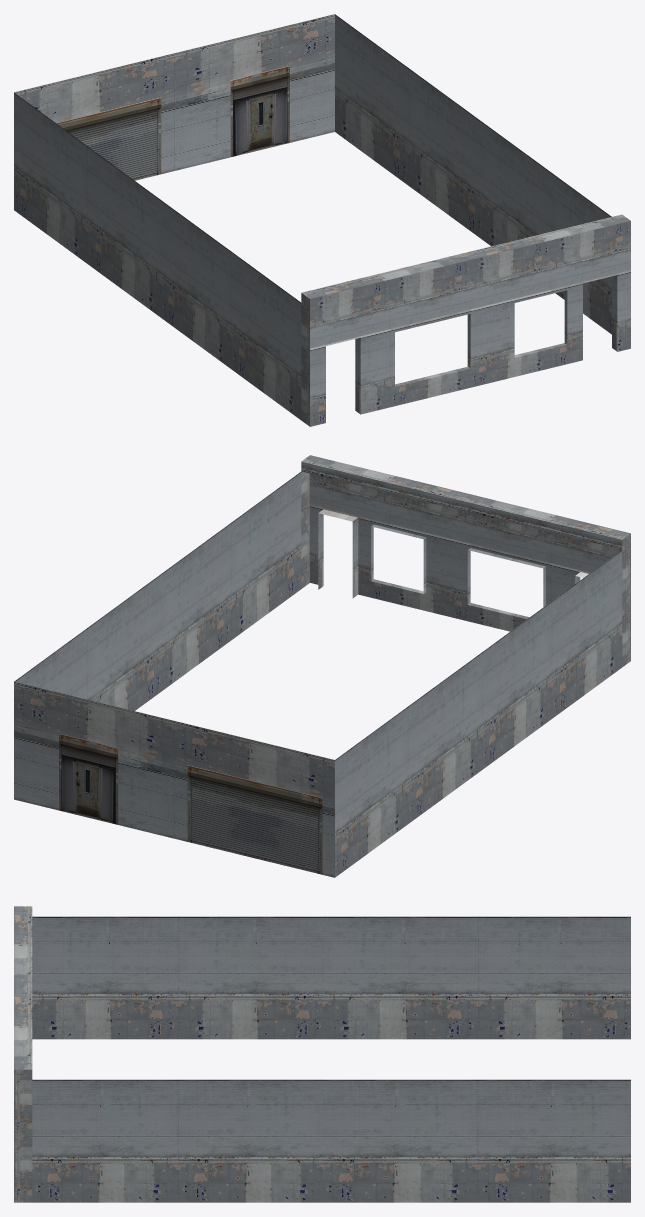
File: rural_storesmall_6_rural_midcity_facade_flr_2_0.glb
3 views of the same model, one above another, from view 1: azimuth 30°, elevation 25°; view 2: azimuth 150°, elevation 25°; view 3: azimuth 270°, elevation 25° (orthographic). The views are drawn at different scales.
Visible parts, largest first — view 1: Rural_StoreSmall_6_Rural_Midcity_Facade_FLR_2_0; view 2: Rural_StoreSmall_6_Rural_Midcity_Facade_FLR_2_0; view 3: Rural_StoreSmall_6_Rural_Midcity_Facade_FLR_2_0.
Boxes of the visible parts, x1=… form: Rural_StoreSmall_6_Rural_Midcity_Facade_FLR_2_0: x1=14, y1=14, x2=630, y2=426; Rural_StoreSmall_6_Rural_Midcity_Facade_FLR_2_0: x1=14, y1=455, x2=630, y2=877; Rural_StoreSmall_6_Rural_Midcity_Facade_FLR_2_0: x1=14, y1=906, x2=630, y2=1202.
Size of the model in its own units: 8.89 by 3.38 by 14.2.
Materials: 1 (1 with a texture image).
